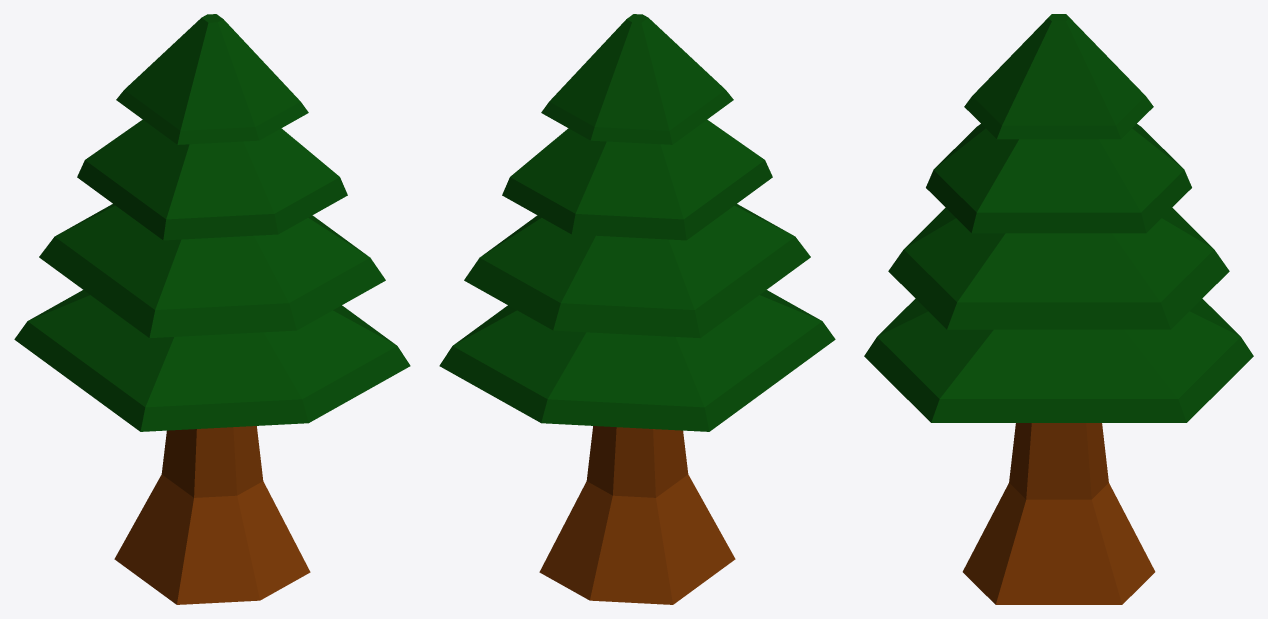
File: _ree4.fbx
3 renders of one model, left to right at view 1: azimuth 30°, elevation 25°; view 2: azimuth 150°, elevation 25°; view 3: azimuth 270°, elevation 25°, orthographic.
Visible parts, largest first — view 1: Cube; view 2: Cube; view 3: Cube.
Part boxes in pixels (x1,y1,x2,y2): Cube: [14, 14, 410, 604]; Cube: [439, 14, 835, 604]; Cube: [864, 14, 1253, 604].
Size of the model in its own units: 642 by 1242 by 792.
